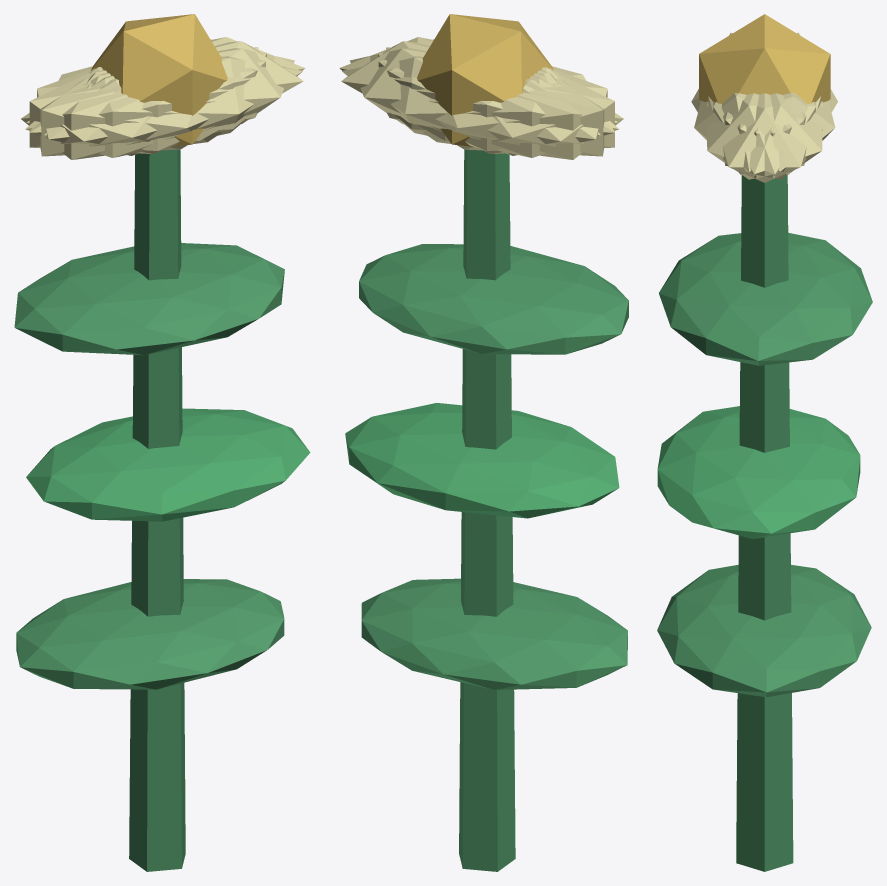
The model's file is strobilanthes-crispa.glb.
The picture shows the model from 3 angles, left to right: view 1: azimuth 30°, elevation 25°; view 2: azimuth 150°, elevation 25°; view 3: azimuth 270°, elevation 25°; orthographic projection.
Parts seen in each view (by area): view 1: stem, leaf1, leaf2, leaf0, center, petal1, petal6, petal2, petal5, petal7, petal0, petal4 (+2 smaller); view 2: stem, leaf2, leaf0, leaf1, center, petal8, petal3, petal7, petal4, petal2, petal0, petal5 (+2 smaller); view 3: stem, leaf2, leaf1, leaf0, center, petal0, petal4, petal5, petal8, petal1.
Boxes of the visible parts, x1,y1,x2,y2 form: stem: (129, 149, 185, 871); leaf1: (26, 408, 310, 521); leaf2: (14, 243, 284, 355); leaf0: (16, 579, 284, 689); center: (91, 14, 227, 146); petal1: (25, 56, 302, 157); petal6: (21, 68, 221, 159); petal2: (40, 47, 258, 156); petal5: (44, 48, 294, 150); petal7: (29, 53, 266, 154); petal0: (90, 41, 303, 141); petal4: (26, 37, 305, 132); stem: (459, 149, 515, 871); leaf2: (359, 244, 628, 354); leaf0: (361, 578, 627, 689); leaf1: (345, 403, 619, 518); center: (417, 14, 553, 146); petal8: (342, 56, 619, 157); petal3: (423, 68, 623, 159); petal7: (386, 47, 604, 156); petal4: (350, 48, 600, 150); petal2: (378, 53, 614, 154); petal0: (341, 41, 553, 141); petal5: (339, 37, 617, 132); stem: (736, 175, 793, 871); leaf2: (659, 232, 872, 365); leaf1: (657, 406, 860, 538); leaf0: (657, 564, 871, 697); center: (699, 14, 830, 103); petal0: (708, 93, 820, 182); petal4: (713, 93, 822, 179); petal5: (706, 93, 815, 179); petal8: (723, 93, 835, 171); petal1: (694, 93, 806, 171).
Size of the model in its own units: 0.1498 by 0.4255 by 0.1005.
